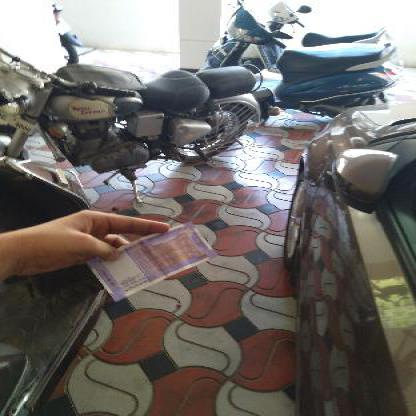New100Back: (88, 224, 221, 290)
